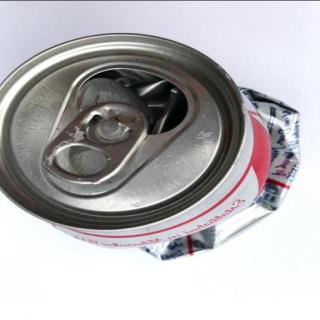Anorganik: (0, 31, 310, 268)
